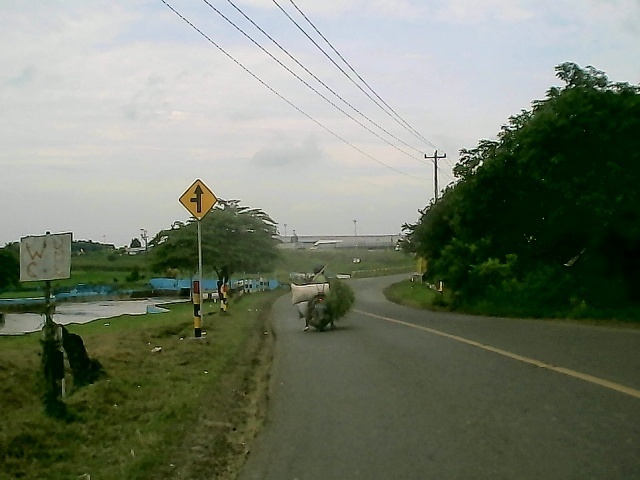Simpang kiri dengan prioritas: (176, 178, 218, 220)
